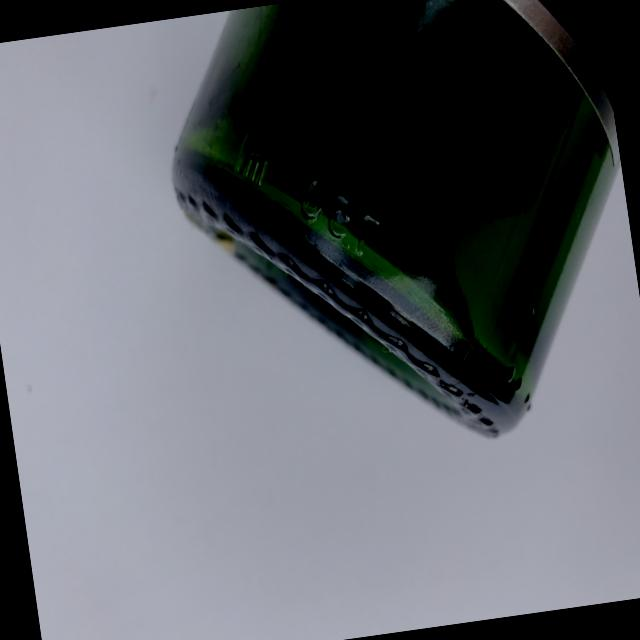Glass: (135, 0, 640, 494)
